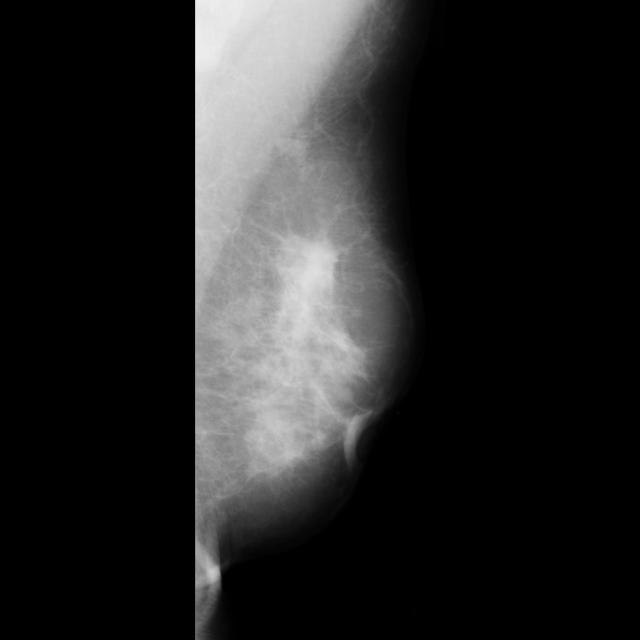tumour: (282, 234, 340, 292)
